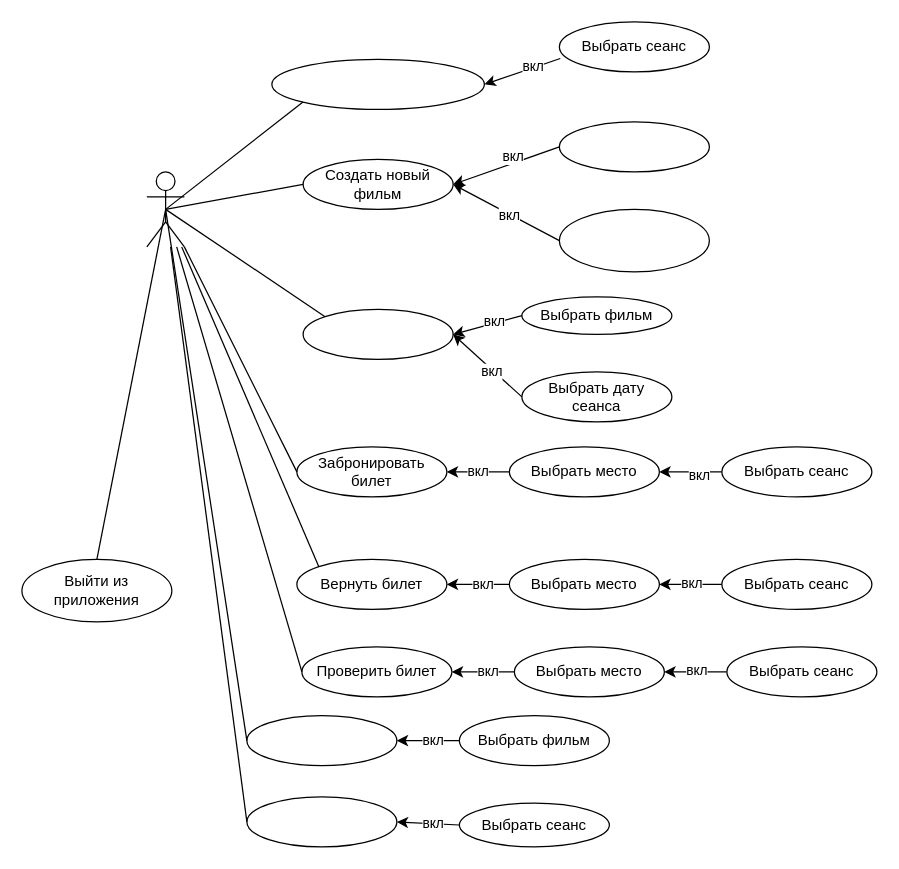
Image size: 899x869. Some labels were removed from this diagram. Here are the shapes that lost their labels. From the top down, the centre of each, then its label:
At [377,83]: "Посмотреть места на сеанс".
At [633,146]: "Ввести название фильма".
At [165,209]: "Работник кинотеатра".
At [633,240]: "Ввести продолжительность фильма".
At [377,333]: "Создать новый сеанс".
At [321,740]: "Удалить фильм".
At [321,821]: "Удалить сеанс".
